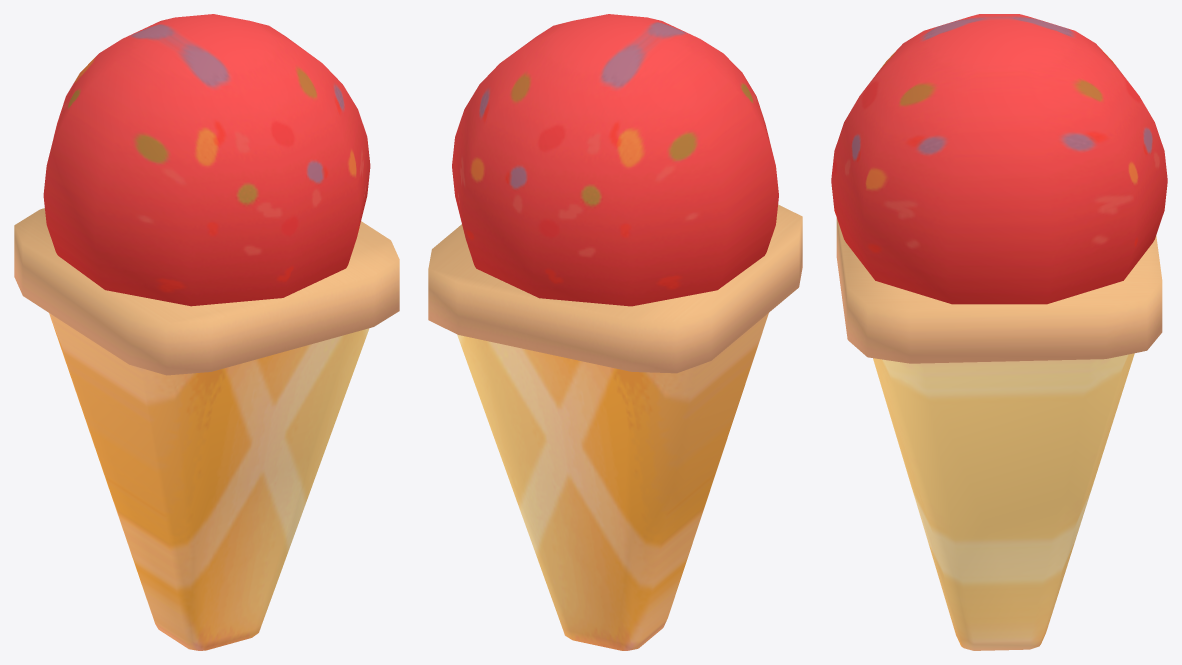
File: red_icecream.glb
3 views of the same model, side by side, from view 1: azimuth 30°, elevation 25°; view 2: azimuth 150°, elevation 25°; view 3: azimuth 270°, elevation 25° (orthographic).
Parts seen in each view (by area): view 1: Red_IceCream; view 2: Red_IceCream; view 3: Red_IceCream.
Boxes of the visible parts, <box> form: Red_IceCream: <box>14,14,399,650</box>; Red_IceCream: <box>428,14,802,650</box>; Red_IceCream: <box>831,14,1167,650</box>.
Bounding box in the file's own units: 0.3639 × 0.752 × 0.3763.
Materials: 1 (1 with a texture image).
